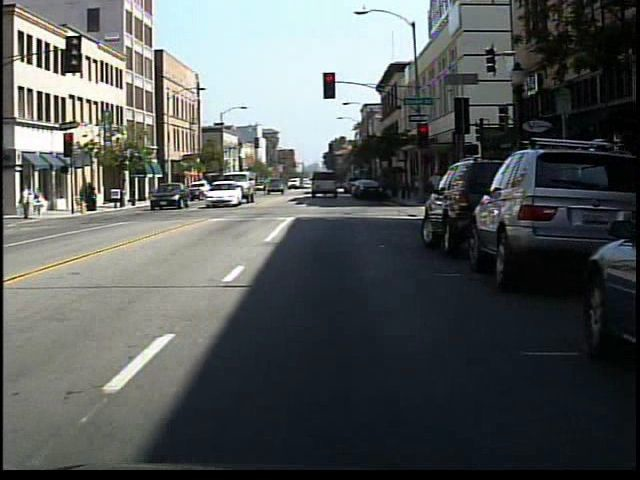person: (18, 183, 36, 224), (33, 186, 50, 220)
